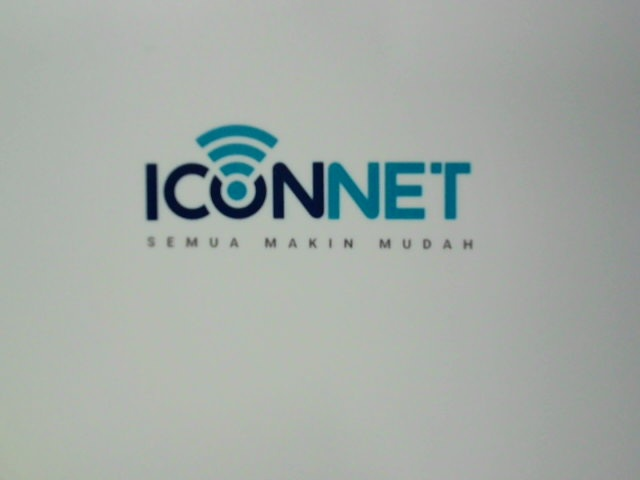BM_ICONNET: (130, 115, 496, 257)
